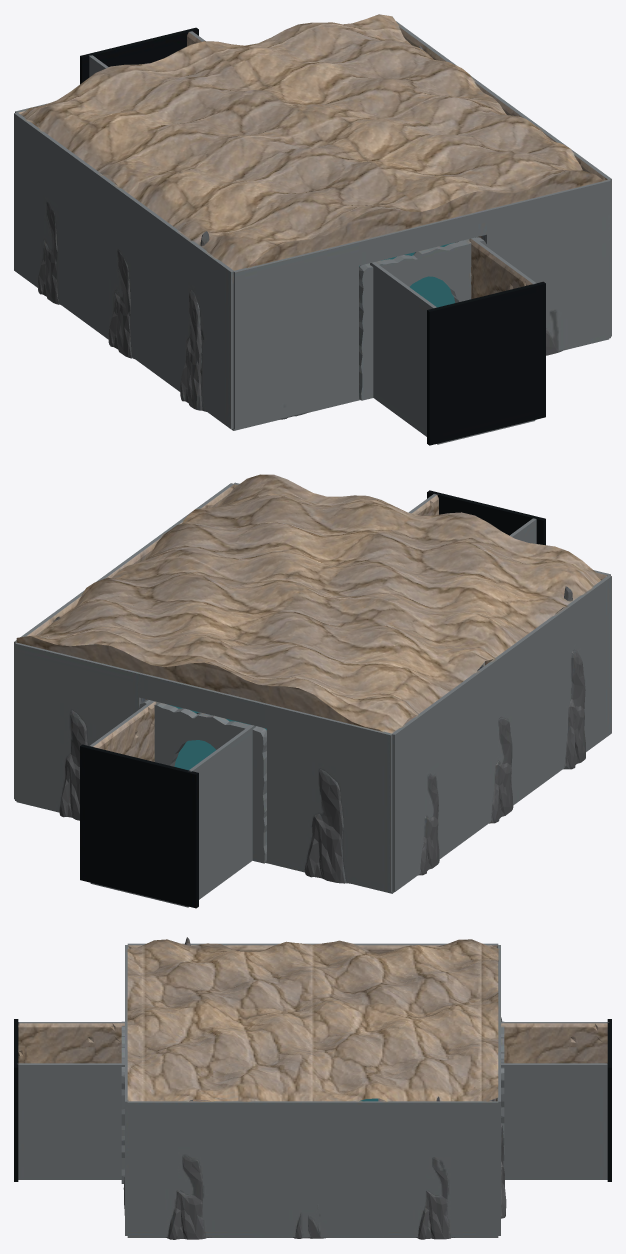
The model's file is room.glb.
3 views of the same model, one above another, from view 1: azimuth 30°, elevation 25°; view 2: azimuth 150°, elevation 25°; view 3: azimuth 270°, elevation 25° (orthographic). The views are drawn at different scales.
Parts seen in each view (by area): view 1: SHALLOW-FORD; view 2: SHALLOW-FORD; view 3: SHALLOW-FORD.
Part boxes in pixels (x1,y1,x2,y2): SHALLOW-FORD: (14, 14, 611, 445); SHALLOW-FORD: (14, 474, 611, 908); SHALLOW-FORD: (14, 937, 611, 1239).
Bounding box in the file's own units: 10.4 × 4.83 × 16.12.
1 material, 1 textured.
